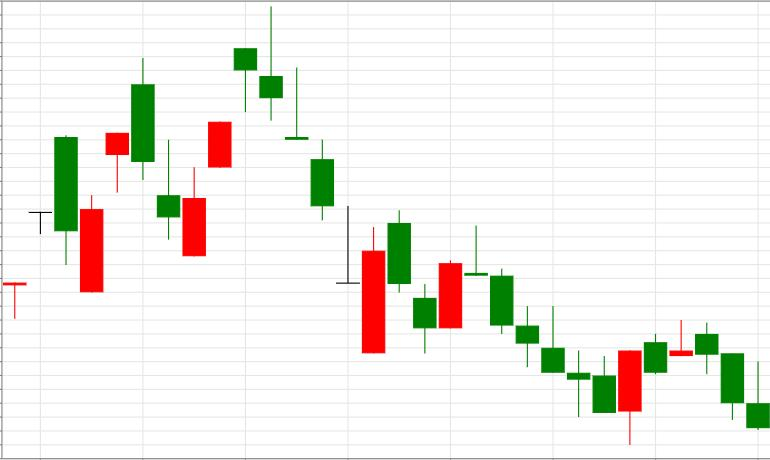bullish_engulfing_rise: (440, 225, 641, 445)
